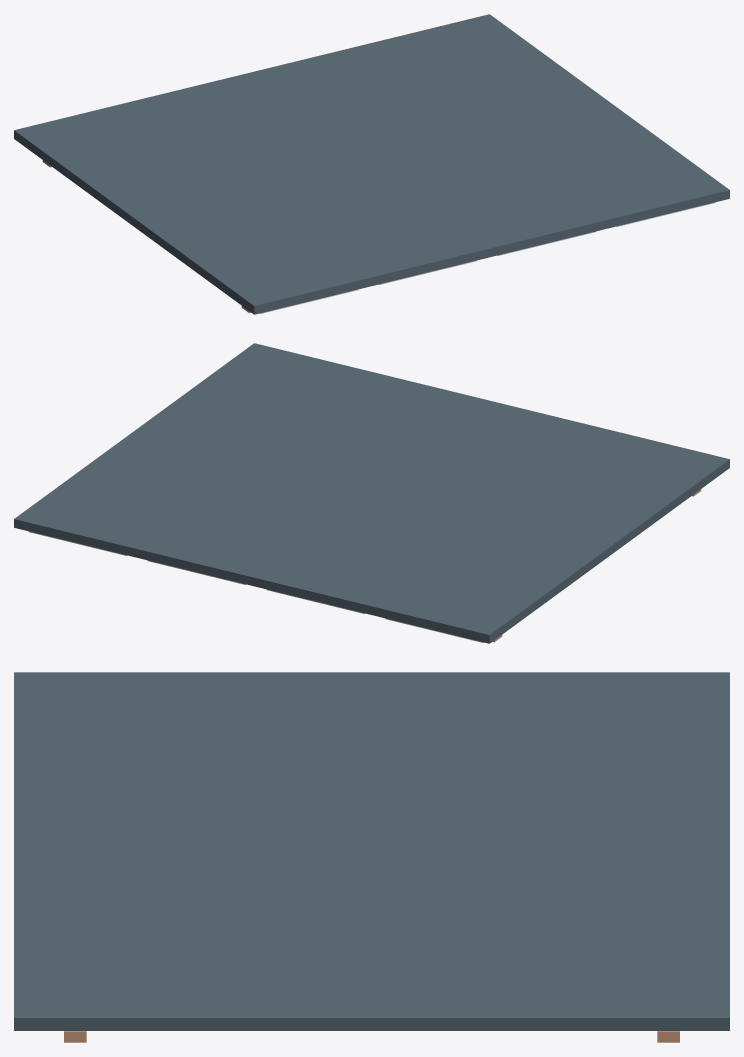
File: ceiling.glb
3 renders of one model, top to bottom at view 1: azimuth 30°, elevation 25°; view 2: azimuth 150°, elevation 25°; view 3: azimuth 270°, elevation 25°, orthographic. The views are drawn at different scales.
Visible parts, largest first — view 1: dark_0; view 2: dark_0; view 3: dark_0.
Boxes of the visible parts, x1,y1,x2,y2 form: dark_0: (14, 14, 729, 314); dark_0: (14, 343, 729, 643); dark_0: (14, 672, 729, 1030).
Bounding box in the file's own units: 8 × 0.36 × 7.
